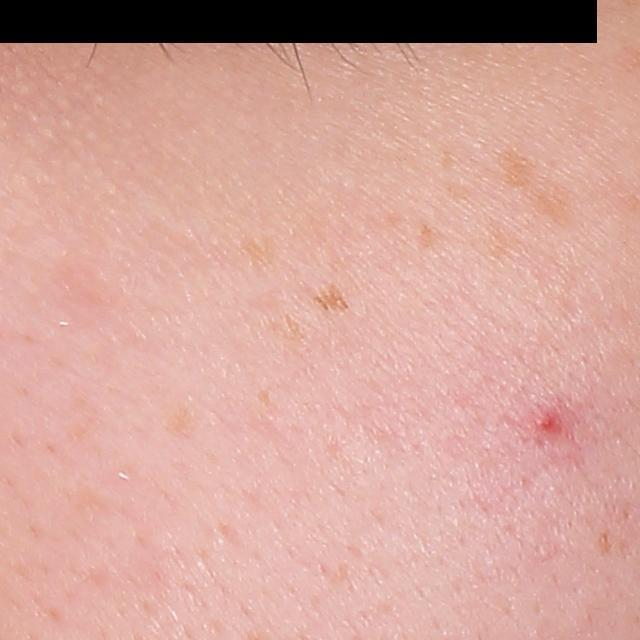melasma: (500, 144, 573, 229), (310, 281, 350, 322), (238, 232, 276, 269), (413, 222, 442, 254)
papule: (535, 408, 562, 431)
